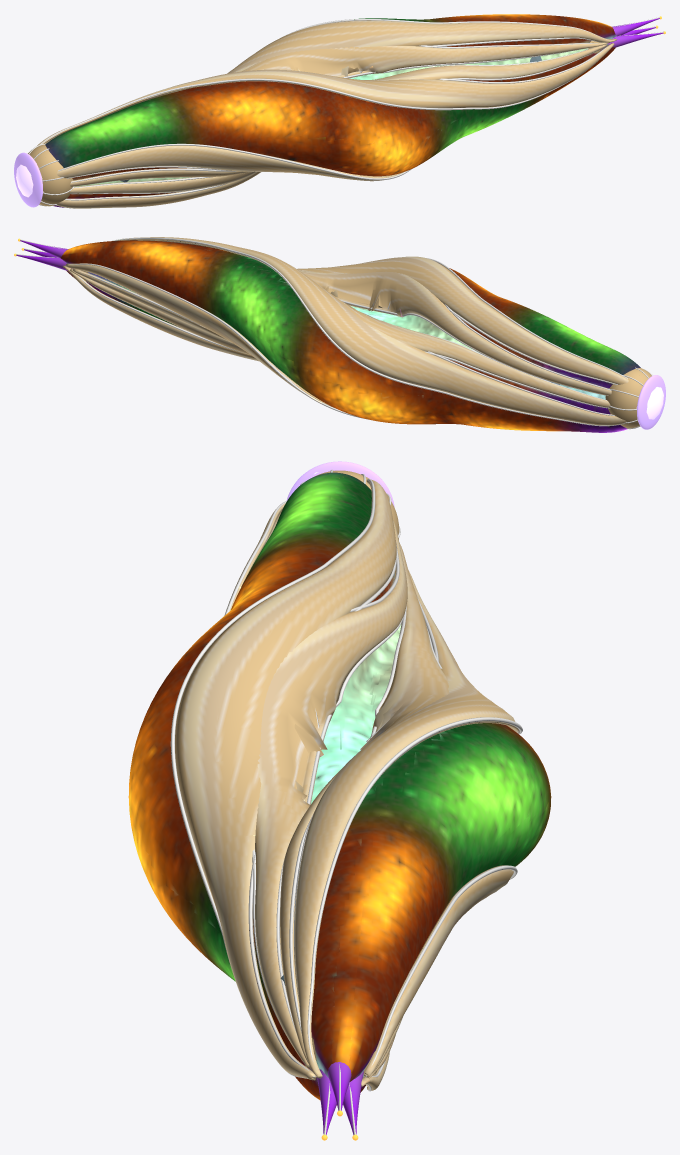
The picture shows the model from 3 angles, top to bottom: view 1: azimuth 30°, elevation 25°; view 2: azimuth 150°, elevation 25°; view 3: azimuth 270°, elevation 25°; orthographic projection. The views are drawn at different scales.
Visible parts, largest first — view 1: I14_23; view 2: I14_23; view 3: I14_23.
Boxes of the visible parts, box(x1,y1,x2,y2) form: I14_23: box(14, 14, 665, 208); I14_23: box(14, 237, 665, 432); I14_23: box(128, 461, 551, 1140).
Size of the model in its own units: 1 by 0.1907 by 0.2849.
Materials: 11 (2 with a texture image).
